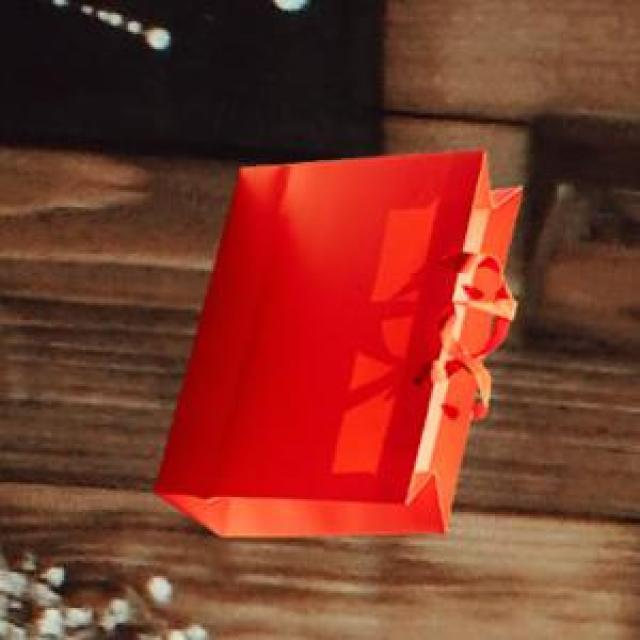paper: (152, 145, 518, 531)
